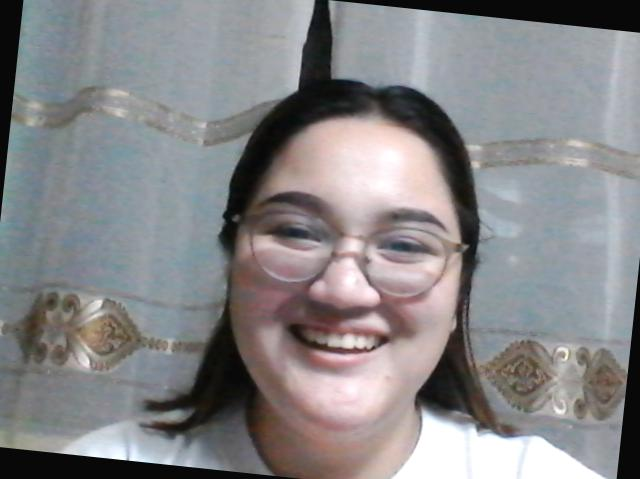senang: (193, 116, 470, 454)
